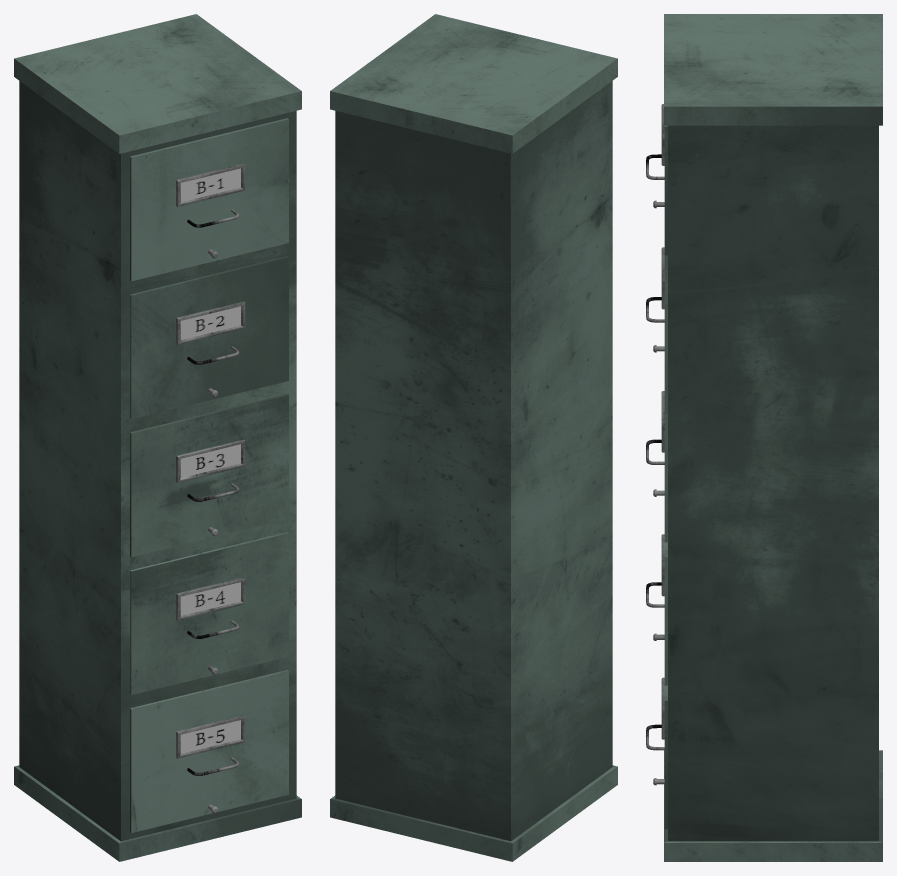
The model's file is drawers.glb.
The picture shows the model from 3 angles, left to right: view 1: azimuth 30°, elevation 25°; view 2: azimuth 150°, elevation 25°; view 3: azimuth 270°, elevation 25°; orthographic projection. The views are drawn at different scales.
Visible parts, largest first — view 1: drawers_0; view 2: drawers_0; view 3: drawers_0.
Boxes of the visible parts, x1,y1,x2,y2 form: drawers_0: [14, 14, 301, 861]; drawers_0: [330, 14, 617, 861]; drawers_0: [646, 14, 882, 861].
Bounding box in the file's own units: 0.5259 × 2 × 0.5685.
Materials: 1 (1 with a texture image).
